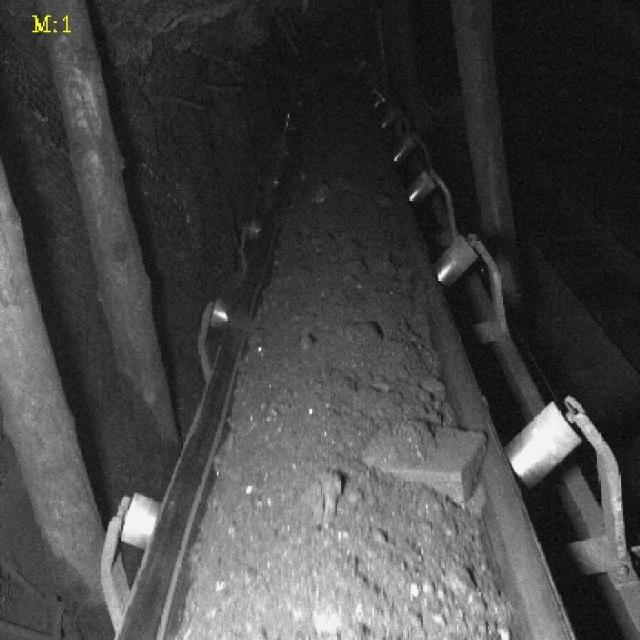large_sized_coal: (363, 418, 483, 500), (302, 470, 343, 524)
